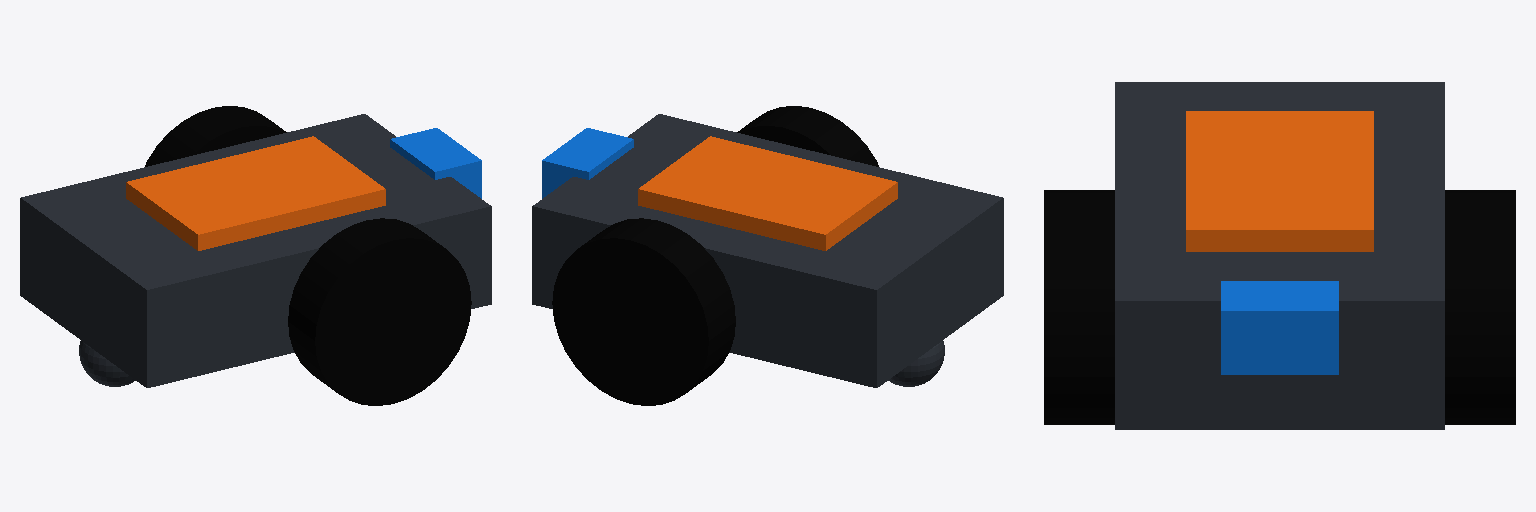
URDF robot description (expo_drone):
<?xml version="1.0"?>
<!--
  expo_drone: robô PROVISÓRIO do ExpoTech (drone de reconhecimento, tração diferencial).
  Só primitivas, para validar ROS 2 + física enquanto a arte final é feita no Blender.
  Ao trocar pela arte: manter os NOMES de links/juntas, os frames e o raio/distância das rodas,
  assim os scripts e tópicos ROS continuam funcionando sem mudança.

  Frames (ROS, x frente, y esquerda, z cima). base_link fica na altura do eixo das rodas.
  Raio da roda 0.05 m, distância entre rodas (track) 0.17 m.
-->
<robot name="expo_drone">
  <material name="chassis_grey"><color rgba="0.22 0.24 0.27 1"/></material>
  <material name="tire_black"><color rgba="0.05 0.05 0.05 1"/></material>
  <material name="accent_orange"><color rgba="0.95 0.45 0.1 1"/></material>
  <material name="lens_blue"><color rgba="0.1 0.5 0.9 1"/></material>

  <link name="base_link">
    <inertial>
      <origin xyz="0 0 0.01" rpy="0 0 0"/>
      <mass value="1.2"/>
      <inertia ixx="0.00232" ixy="0" ixz="0" iyy="0.0052" iyz="0" izz="0.0068"/>
    </inertial>
    <visual>
      <origin xyz="0 0 0.01" rpy="0 0 0"/>
      <geometry><box size="0.22 0.14 0.06"/></geometry>
      <material name="chassis_grey"/>
    </visual>
    <visual>
      <origin xyz="0 0 0.045" rpy="0 0 0"/>
      <geometry><box size="0.12 0.08 0.01"/></geometry>
      <material name="accent_orange"/>
    </visual>
    <collision>
      <origin xyz="0 0 0.01" rpy="0 0 0"/>
      <geometry><box size="0.22 0.14 0.06"/></geometry>
    </collision>
  </link>

  <link name="left_wheel_link">
    <inertial>
      <mass value="0.2"/>
      <inertia ixx="0.00014" ixy="0" ixz="0" iyy="0.00025" iyz="0" izz="0.00014"/>
    </inertial>
    <visual>
      <origin xyz="0 0 0" rpy="1.5708 0 0"/>
      <geometry><cylinder radius="0.05" length="0.03"/></geometry>
      <material name="tire_black"/>
    </visual>
    <collision>
      <origin xyz="0 0 0" rpy="1.5708 0 0"/>
      <geometry><cylinder radius="0.05" length="0.03"/></geometry>
    </collision>
  </link>

  <link name="right_wheel_link">
    <inertial>
      <mass value="0.2"/>
      <inertia ixx="0.00014" ixy="0" ixz="0" iyy="0.00025" iyz="0" izz="0.00014"/>
    </inertial>
    <visual>
      <origin xyz="0 0 0" rpy="1.5708 0 0"/>
      <geometry><cylinder radius="0.05" length="0.03"/></geometry>
      <material name="tire_black"/>
    </visual>
    <collision>
      <origin xyz="0 0 0" rpy="1.5708 0 0"/>
      <geometry><cylinder radius="0.05" length="0.03"/></geometry>
    </collision>
  </link>

  <link name="caster_link">
    <inertial>
      <mass value="0.15"/>
      <inertia ixx="0.000024" ixy="0" ixz="0" iyy="0.000024" iyz="0" izz="0.000024"/>
    </inertial>
    <visual>
      <geometry><sphere radius="0.02"/></geometry>
      <material name="chassis_grey"/>
    </visual>
    <collision>
      <geometry><sphere radius="0.02"/></geometry>
    </collision>
  </link>

  <link name="camera_link">
    <inertial>
      <mass value="0.15"/>
      <inertia ixx="0.0000425" ixy="0" ixz="0" iyy="0.0000225" iyz="0" izz="0.0000425"/>
    </inertial>
    <visual>
      <geometry><box size="0.03 0.05 0.03"/></geometry>
      <material name="lens_blue"/>
    </visual>
    <collision>
      <geometry><box size="0.03 0.05 0.03"/></geometry>
    </collision>
  </link>

  <joint name="left_wheel_joint" type="continuous">
    <parent link="base_link"/><child link="left_wheel_link"/>
    <origin xyz="0.03 0.085 0" rpy="0 0 0"/>
    <axis xyz="0 1 0"/>
    <limit effort="2.0" velocity="20.0"/>
    <dynamics damping="0.01" friction="0.0"/>
  </joint>

  <joint name="right_wheel_joint" type="continuous">
    <parent link="base_link"/><child link="right_wheel_link"/>
    <origin xyz="0.03 -0.085 0" rpy="0 0 0"/>
    <axis xyz="0 1 0"/>
    <limit effort="2.0" velocity="20.0"/>
    <dynamics damping="0.01" friction="0.0"/>
  </joint>

  <joint name="caster_joint" type="fixed">
    <parent link="base_link"/><child link="caster_link"/>
    <origin xyz="-0.09 0 -0.03" rpy="0 0 0"/>
  </joint>

  <joint name="camera_joint" type="fixed">
    <parent link="base_link"/><child link="camera_link"/>
    <origin xyz="0.115 0 0.03" rpy="0 0 0"/>
  </joint>
</robot>

--- Render facts (derived) ---
3 views of the same robot in one strip: view 1: azimuth 30°, elevation 25°; view 2: azimuth 150°, elevation 25°; view 3: azimuth 270°, elevation 25° (orthographic).
Model expo_drone with 5 links and 4 joints (2 continuous, 2 fixed), rooted at base_link, posed every joint at zero.
Links seen in each view (by area): view 1: base_link, right_wheel_link, left_wheel_link, camera_link, caster_link; view 2: base_link, left_wheel_link, right_wheel_link, camera_link, caster_link; view 3: base_link, left_wheel_link, right_wheel_link, camera_link.
Link boxes in pixels (x1,y1,x2,y2): base_link: (20,114,491,387); right_wheel_link: (288,218,471,405); left_wheel_link: (145,106,286,166); camera_link: (390,128,481,198); caster_link: (79,341,135,386); base_link: (532,114,1003,387); left_wheel_link: (552,218,735,405); right_wheel_link: (737,106,878,166); camera_link: (542,128,633,198); caster_link: (888,341,944,386); base_link: (1115,82,1444,429); left_wheel_link: (1445,190,1515,424); right_wheel_link: (1044,190,1114,424); camera_link: (1221,281,1338,374).
Size in the robot's own frame: 0.24 by 0.2 by 0.1 metres.
Geometry: primitives only (box / cylinder / sphere), no mesh files.
